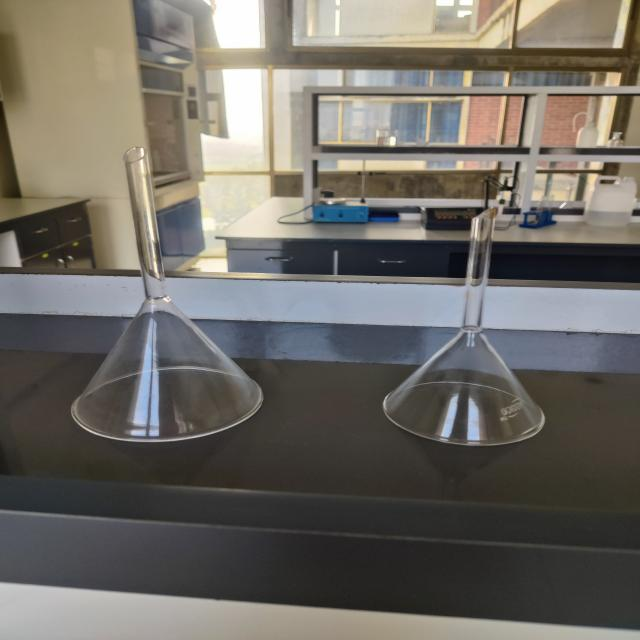Funnel: (47, 127, 290, 476), (346, 168, 587, 476)
